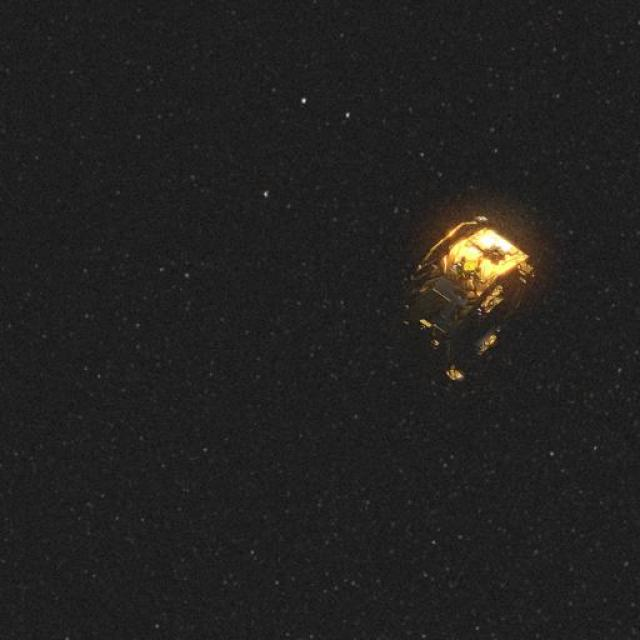lisa_pathfinder: (355, 185, 554, 410)
